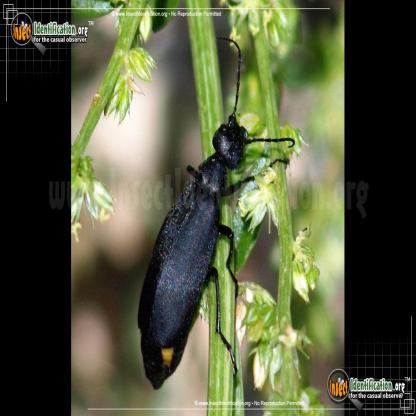blister beetle: (138, 34, 294, 394)
